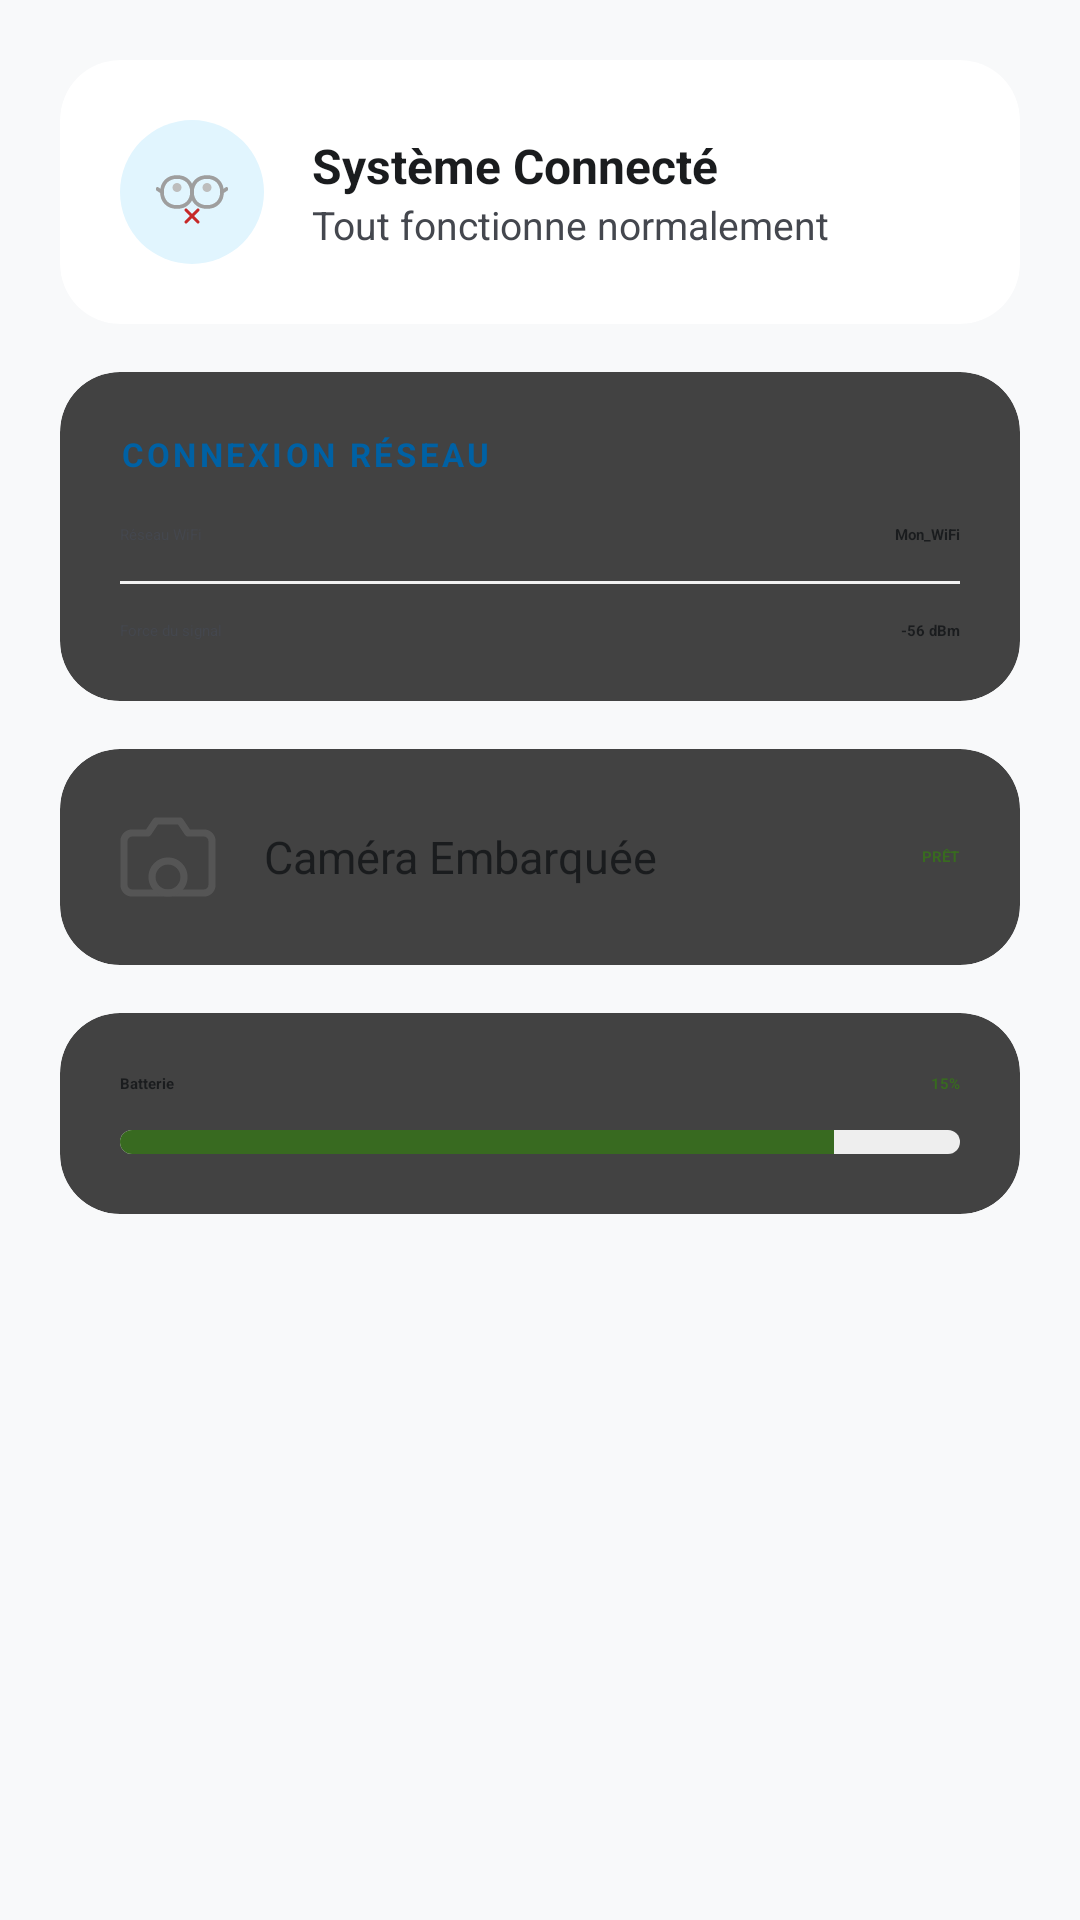

Point at icon controls on the screen. Image size 1080x1920, points as [x,y].
glasses off: [192,199]
